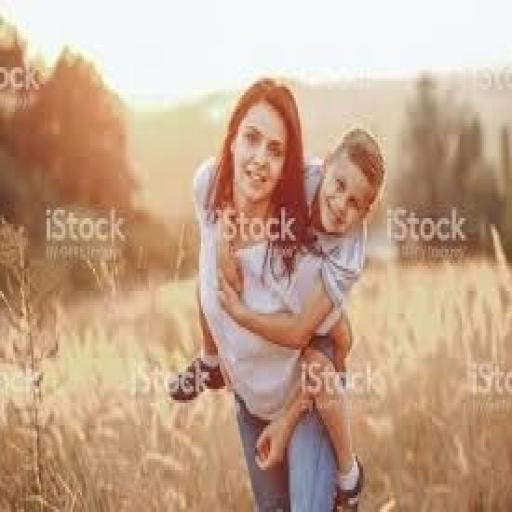hugging: (170, 76, 386, 509)
